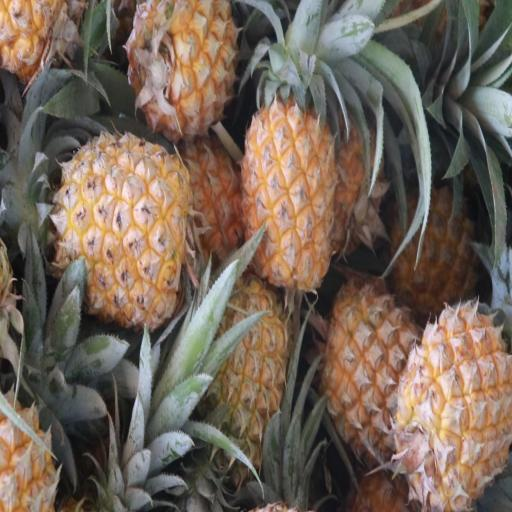------------------------------: (324, 288, 424, 465)
Pineapple - v8 v1: (63, 132, 190, 321), (400, 306, 512, 512), (242, 95, 338, 291), (129, 0, 237, 143), (204, 276, 286, 452), (396, 178, 482, 299)
